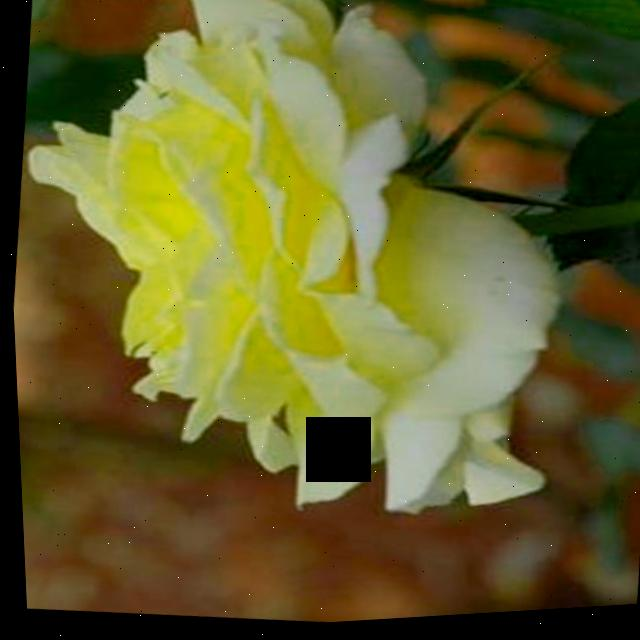rose: (0, 0, 622, 565)
